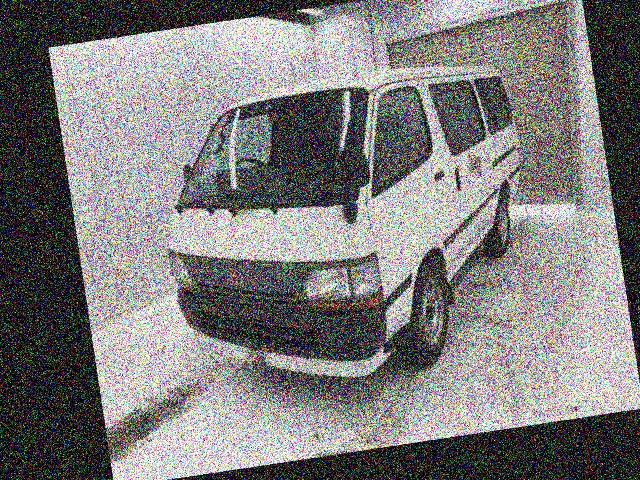van: (145, 53, 549, 393)
